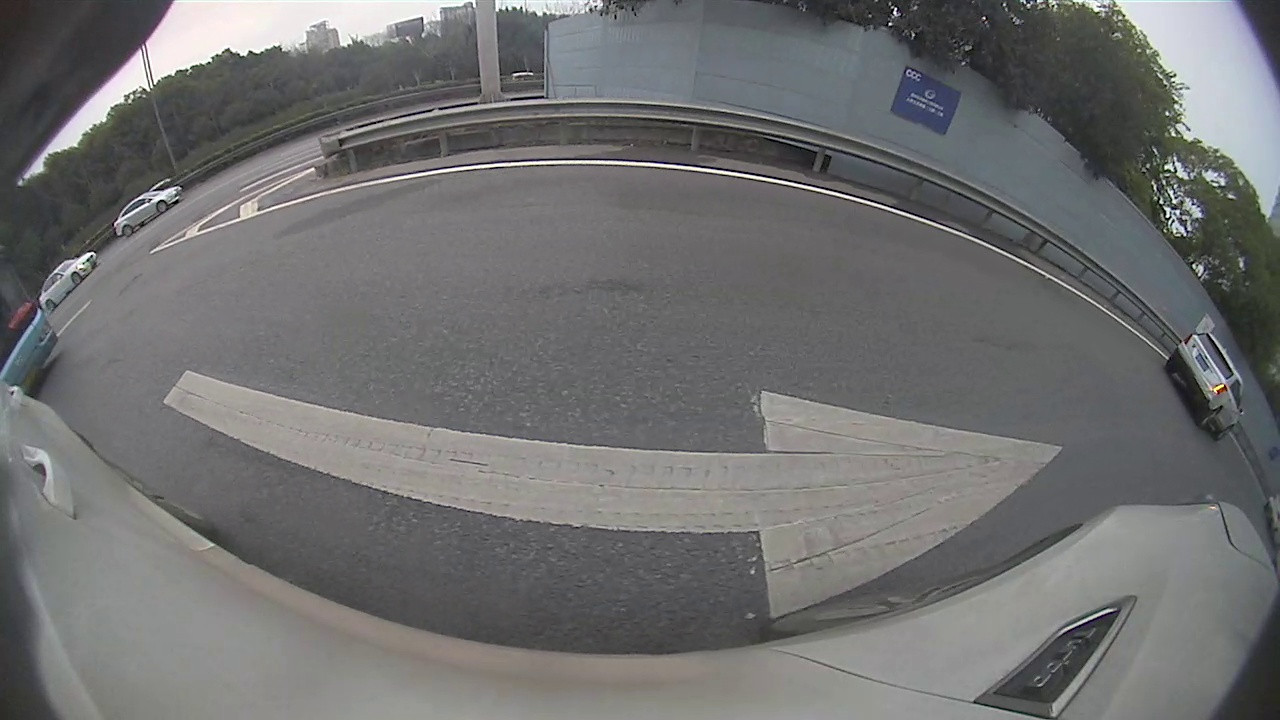bus: (0, 242, 67, 388)
car: (1167, 331, 1243, 441), (41, 253, 99, 311), (115, 190, 184, 237)
front: (1216, 427, 1234, 442), (154, 202, 167, 215), (74, 274, 84, 284)
rear: (1199, 407, 1224, 428), (121, 225, 134, 237), (46, 299, 56, 314)
